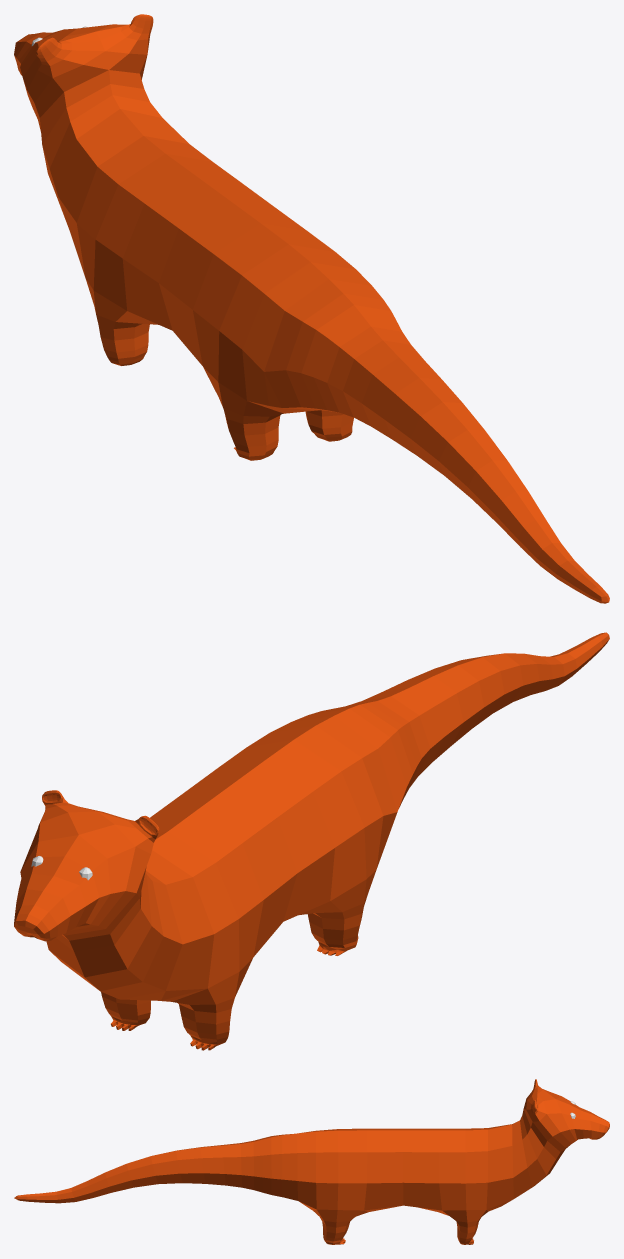
File: watersausage.fbx
3 renders of one model, top to bottom at view 1: azimuth 30°, elevation 25°; view 2: azimuth 150°, elevation 25°; view 3: azimuth 270°, elevation 25°, orthographic. The views are drawn at different scales.
Visible parts, largest first — view 1: Cube; view 2: Cube; view 3: Cube.
Boxes of the visible parts, bbox=[...] form: Cube: bbox=[14, 14, 609, 603]; Cube: bbox=[14, 632, 609, 1050]; Cube: bbox=[14, 1079, 609, 1244].
Bounding box in the file's own units: 182 × 341 × 1282.
